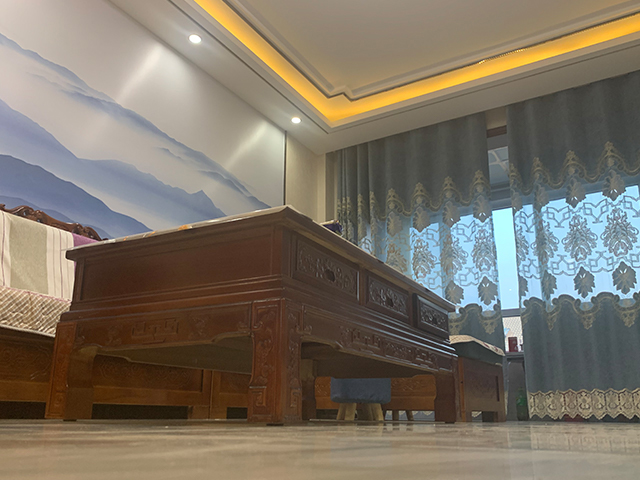curtain: (504, 67, 640, 420), (342, 115, 503, 339)
stool: (330, 376, 391, 422)
table: (44, 202, 458, 428)
